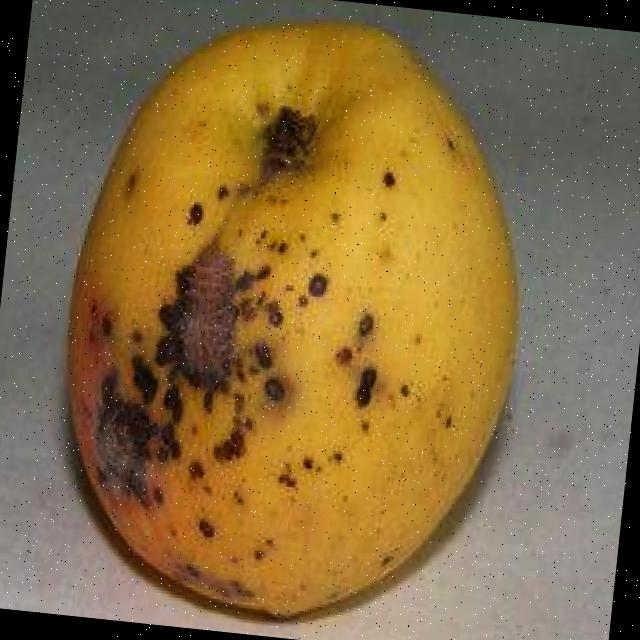rotten apple: (7, 0, 577, 640)
